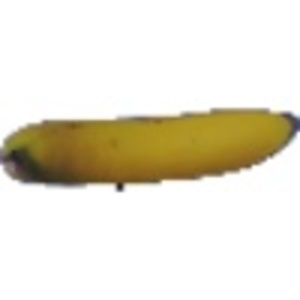banana: (1, 106, 295, 185)
